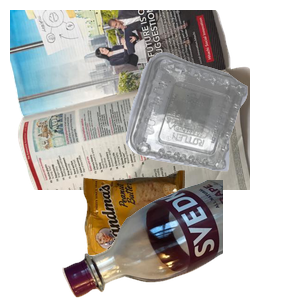glass: (60, 180, 300, 300)
paper: (10, 10, 250, 190)
plastic: (123, 50, 300, 214)
trash: (81, 168, 261, 300)
